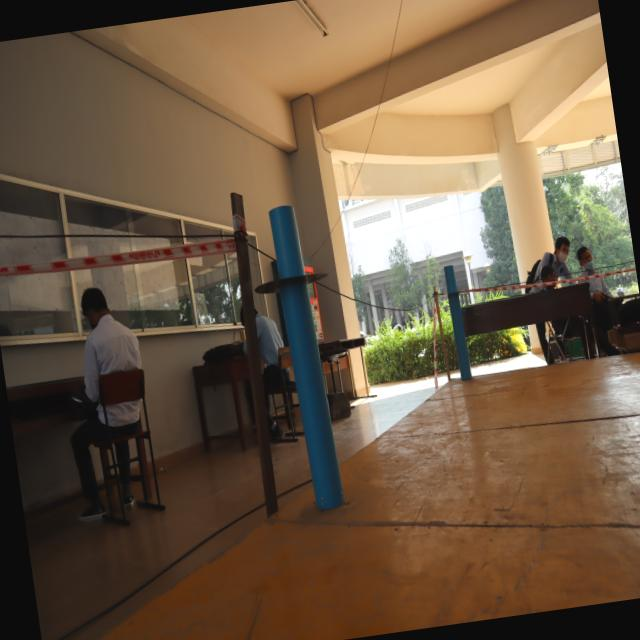pole: (240, 188, 342, 352), (426, 250, 476, 341)
